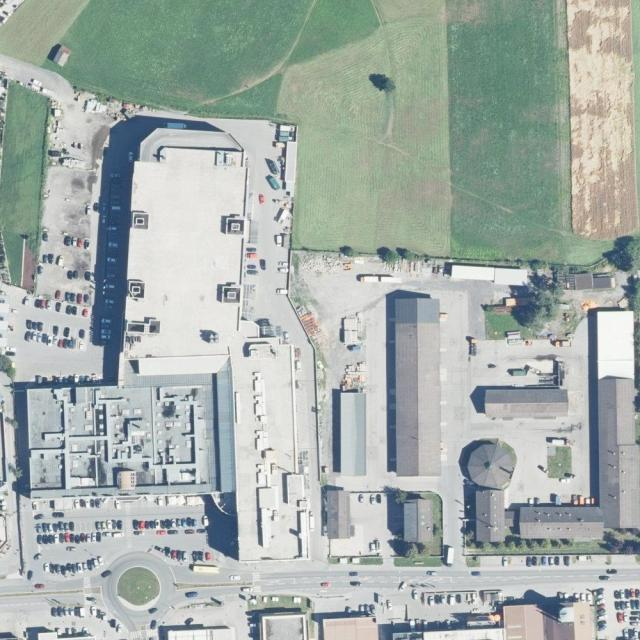agricultural_land: (274, 0, 453, 260)
building: (122, 128, 250, 380), (15, 364, 232, 498), (121, 354, 237, 496), (231, 337, 300, 493), (392, 297, 441, 476), (237, 471, 318, 560), (455, 437, 518, 546), (597, 376, 640, 529), (519, 506, 604, 541), (483, 385, 569, 419), (598, 311, 634, 378), (340, 392, 366, 475), (450, 263, 528, 287), (519, 521, 603, 541), (475, 489, 505, 543), (402, 499, 434, 543), (326, 489, 351, 539), (560, 272, 615, 290), (46, 42, 73, 69), (285, 474, 304, 506), (404, 500, 418, 542), (257, 487, 278, 509)
greenland: (463, 504, 640, 559), (509, 268, 572, 338), (110, 558, 167, 615), (1, 227, 43, 294), (484, 304, 524, 340), (376, 246, 420, 265), (339, 243, 356, 259)
metalled_road: (150, 546, 640, 609), (0, 54, 75, 100), (91, 586, 101, 594)
